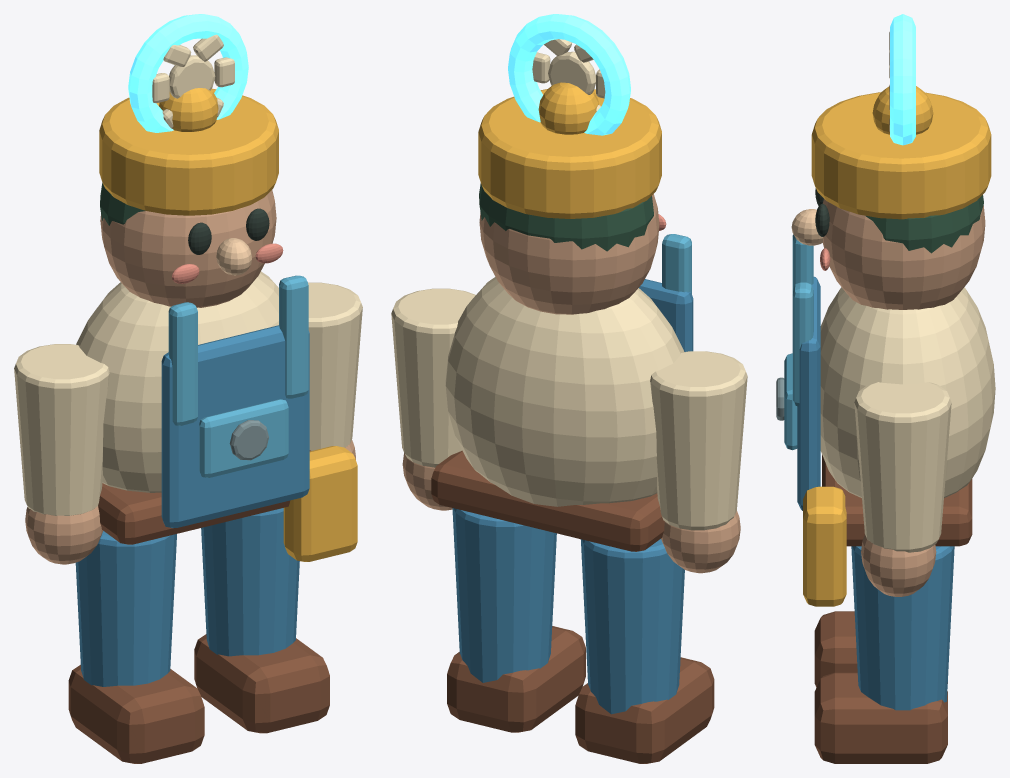
The model's file is bracken_mechanic.glb.
3 views of the same model, side by side, from view 1: azimuth 30°, elevation 25°; view 2: azimuth 150°, elevation 25°; view 3: azimuth 270°, elevation 25° (orthographic). The views are drawn at different scales.
Parts seen in each view (by area): view 1: Mechanic overall bib, Mechanic shirt, Ochre beanie, Sleeve.002, Trouser leg.002, Trouser leg.003, Head.001, Boot.002, Boot.003, Sleeve.003, Tool pouch, Identity ring.001 (+12 smaller); view 2: Mechanic shirt, Ochre beanie, Trouser leg.002, Trouser leg.003, Sleeve.002, Head.001, Sleeve.003, Mechanic tool belt, Boot.002, Boot.003, Identity ring.001, Hair.001 (+6 smaller); view 3: Mechanic shirt, Ochre beanie, Sleeve.003, Trouser leg.003, Head.001, Boot.003, Tool pouch, Mechanic overall bib, Identity ring.001, Hair.001, Hand.003, Mechanic tool belt (+7 smaller).
Part boxes in pixels (<box>): Mechanic overall bib: <box>161,325,309,527</box>; Mechanic shirt: <box>76,271,278,492</box>; Ochre beanie: <box>99,88,278,215</box>; Sleeve.002: <box>14,344,109,515</box>; Trouser leg.002: <box>75,531,176,686</box>; Trouser leg.003: <box>201,508,299,656</box>; Head.001: <box>100,190,276,307</box>; Boot.002: <box>68,665,204,763</box>; Boot.003: <box>194,634,329,733</box>; Sleeve.003: <box>308,282,362,450</box>; Tool pouch: <box>283,446,357,561</box>; Identity ring.001: <box>128,14,248,132</box>; Mechanic shirt: <box>445,277,684,506</box>; Ochre beanie: <box>478,89,661,218</box>; Trouser leg.002: <box>580,539,684,714</box>; Trouser leg.003: <box>452,508,556,682</box>; Sleeve.002: <box>650,351,747,530</box>; Head.001: <box>479,194,659,314</box>; Sleeve.003: <box>391,288,475,467</box>; Mechanic tool belt: <box>431,450,664,551</box>; Boot.002: <box>575,657,714,763</box>; Boot.003: <box>447,626,585,732</box>; Identity ring.001: <box>508,14,630,135</box>; Hair.001: <box>479,183,653,251</box>; Mechanic shirt: <box>820,287,995,497</box>; Ochre beanie: <box>811,92,991,219</box>; Sleeve.003: <box>854,382,951,552</box>; Trouser leg.003: <box>851,546,954,710</box>; Head.001: <box>822,199,985,309</box>; Boot.003: <box>814,672,947,763</box>; Tool pouch: <box>803,486,846,606</box>; Mechanic overall bib: <box>797,276,820,510</box>; Identity ring.001: <box>890,14,915,145</box>; Hair.001: <box>866,195,983,253</box>; Hand.003: <box>861,535,936,596</box>; Mechanic tool belt: <box>822,455,972,546</box>.
Size of the model in its own units: 1.33 by 2.67 by 0.7575.
